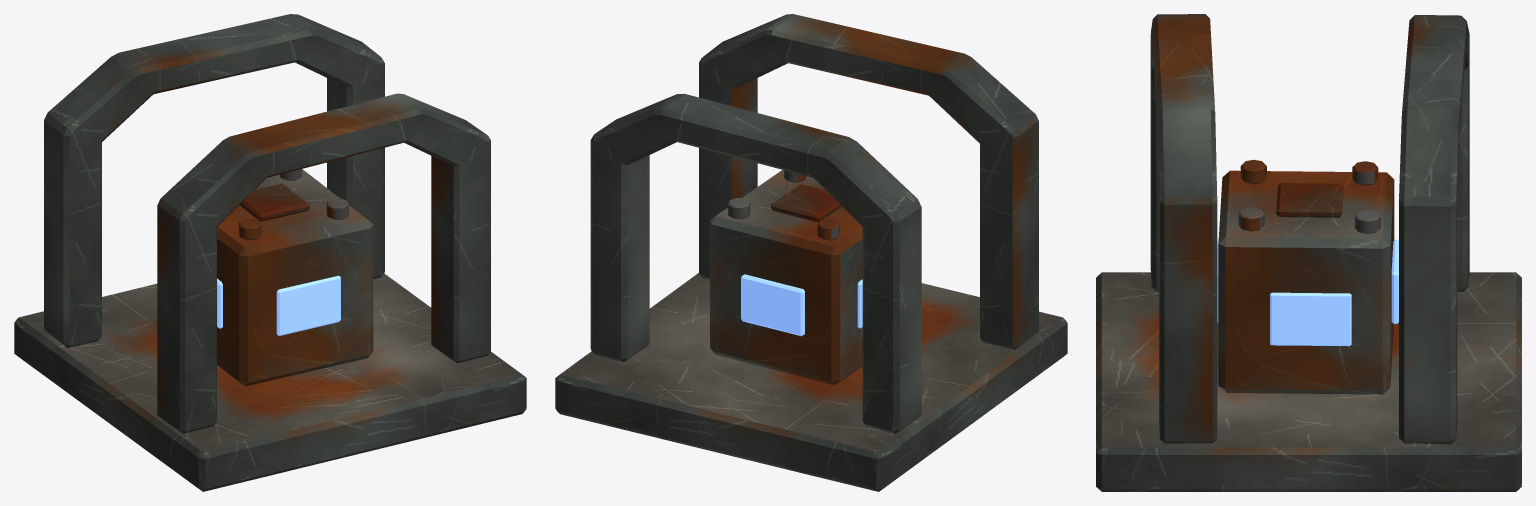
File: R4X_ModuleDurabilityBooster_LOD1.glb
The picture shows the model from 3 angles, left to right: view 1: azimuth 30°, elevation 25°; view 2: azimuth 150°, elevation 25°; view 3: azimuth 270°, elevation 25°; orthographic projection. The views are drawn at different scales.
Visible parts, largest first — view 1: R4X_ModuleDurabilityBooster_LOD1; view 2: R4X_ModuleDurabilityBooster_LOD1; view 3: R4X_ModuleDurabilityBooster_LOD1.
Part boxes in pixels (x1,y1,x2,y2): R4X_ModuleDurabilityBooster_LOD1: [14, 14, 526, 491]; R4X_ModuleDurabilityBooster_LOD1: [555, 14, 1067, 491]; R4X_ModuleDurabilityBooster_LOD1: [1096, 14, 1521, 491].
Bounding box in the file's own units: 0.52 × 0.46 × 0.52.
5 materials, 4 textured.
